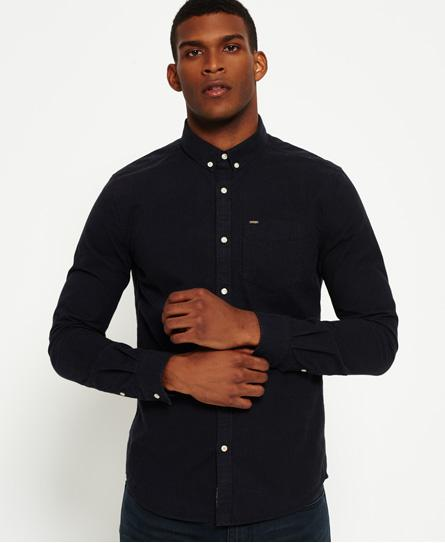teeshirt: (44, 118, 405, 516)
